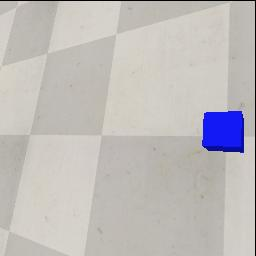box: (202, 111, 244, 153)
